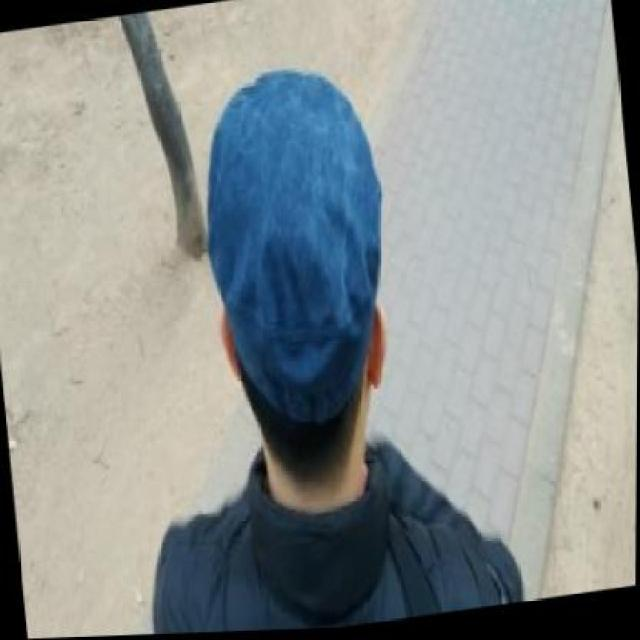hat: (187, 54, 404, 443)
